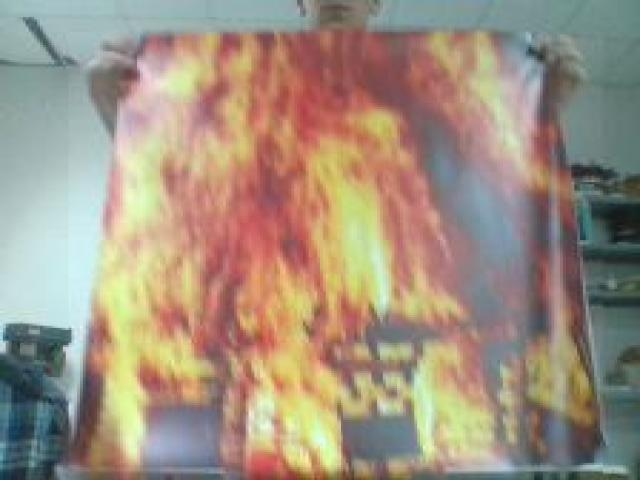fire-poster: (63, 26, 608, 478)
